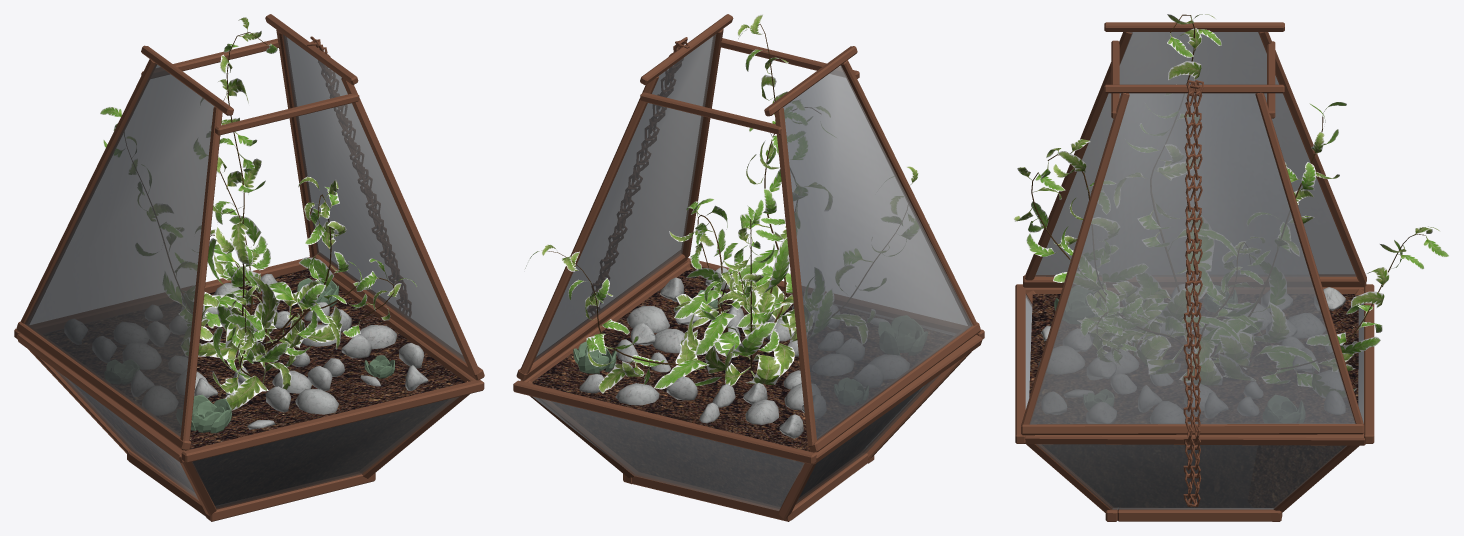
Rendered from plant.glb.
The picture shows the model from 3 angles, left to right: view 1: azimuth 30°, elevation 25°; view 2: azimuth 150°, elevation 25°; view 3: azimuth 270°, elevation 25°; orthographic projection. The views are drawn at different scales.
Parts seen in each view (by area): view 1: Object_6, Object_10, Object_2, Object_4, Object_9, Object_5, Object_8, Object_3, Object_7, Object_11; view 2: Object_6, Object_10, Object_2, Object_4, Object_9, Object_5, Object_8, Object_7, Object_3, Object_11; view 3: Object_6, Object_10, Object_2, Object_4, Object_5, Object_9, Object_11, Object_3, Object_7, Object_8.
Boxes of the visible parts, x1,y1,x2,y2 form: Object_6: [25, 34, 465, 509]; Object_10: [14, 14, 484, 521]; Object_2: [44, 268, 465, 505]; Object_4: [100, 17, 416, 410]; Object_9: [65, 273, 428, 429]; Object_5: [113, 22, 403, 391]; Object_8: [117, 295, 394, 433]; Object_3: [124, 32, 394, 384]; Object_7: [104, 278, 392, 430]; Object_11: [306, 36, 407, 314]; Object_6: [532, 34, 972, 510]; Object_10: [513, 14, 984, 521]; Object_2: [532, 268, 952, 506]; Object_4: [525, 14, 929, 389]; Object_9: [579, 267, 909, 438]; Object_5: [534, 25, 919, 393]; Object_8: [602, 290, 927, 394]; Object_7: [573, 289, 920, 404]; Object_3: [547, 24, 903, 373]; Object_11: [587, 39, 689, 312]; Object_6: [1025, 32, 1363, 509]; Object_10: [1015, 22, 1374, 521]; Object_2: [1029, 294, 1358, 507]; Object_4: [1013, 14, 1449, 383]; Object_5: [1020, 15, 1435, 397]; Object_9: [1038, 284, 1345, 422]; Object_11: [1187, 80, 1203, 507]; Object_3: [1031, 14, 1425, 369]; Object_7: [1068, 285, 1304, 422]; Object_8: [1054, 285, 1278, 412].
Bounding box in the file's own units: 26.99 × 37.07 × 31.41.
7 materials, 4 textured.
